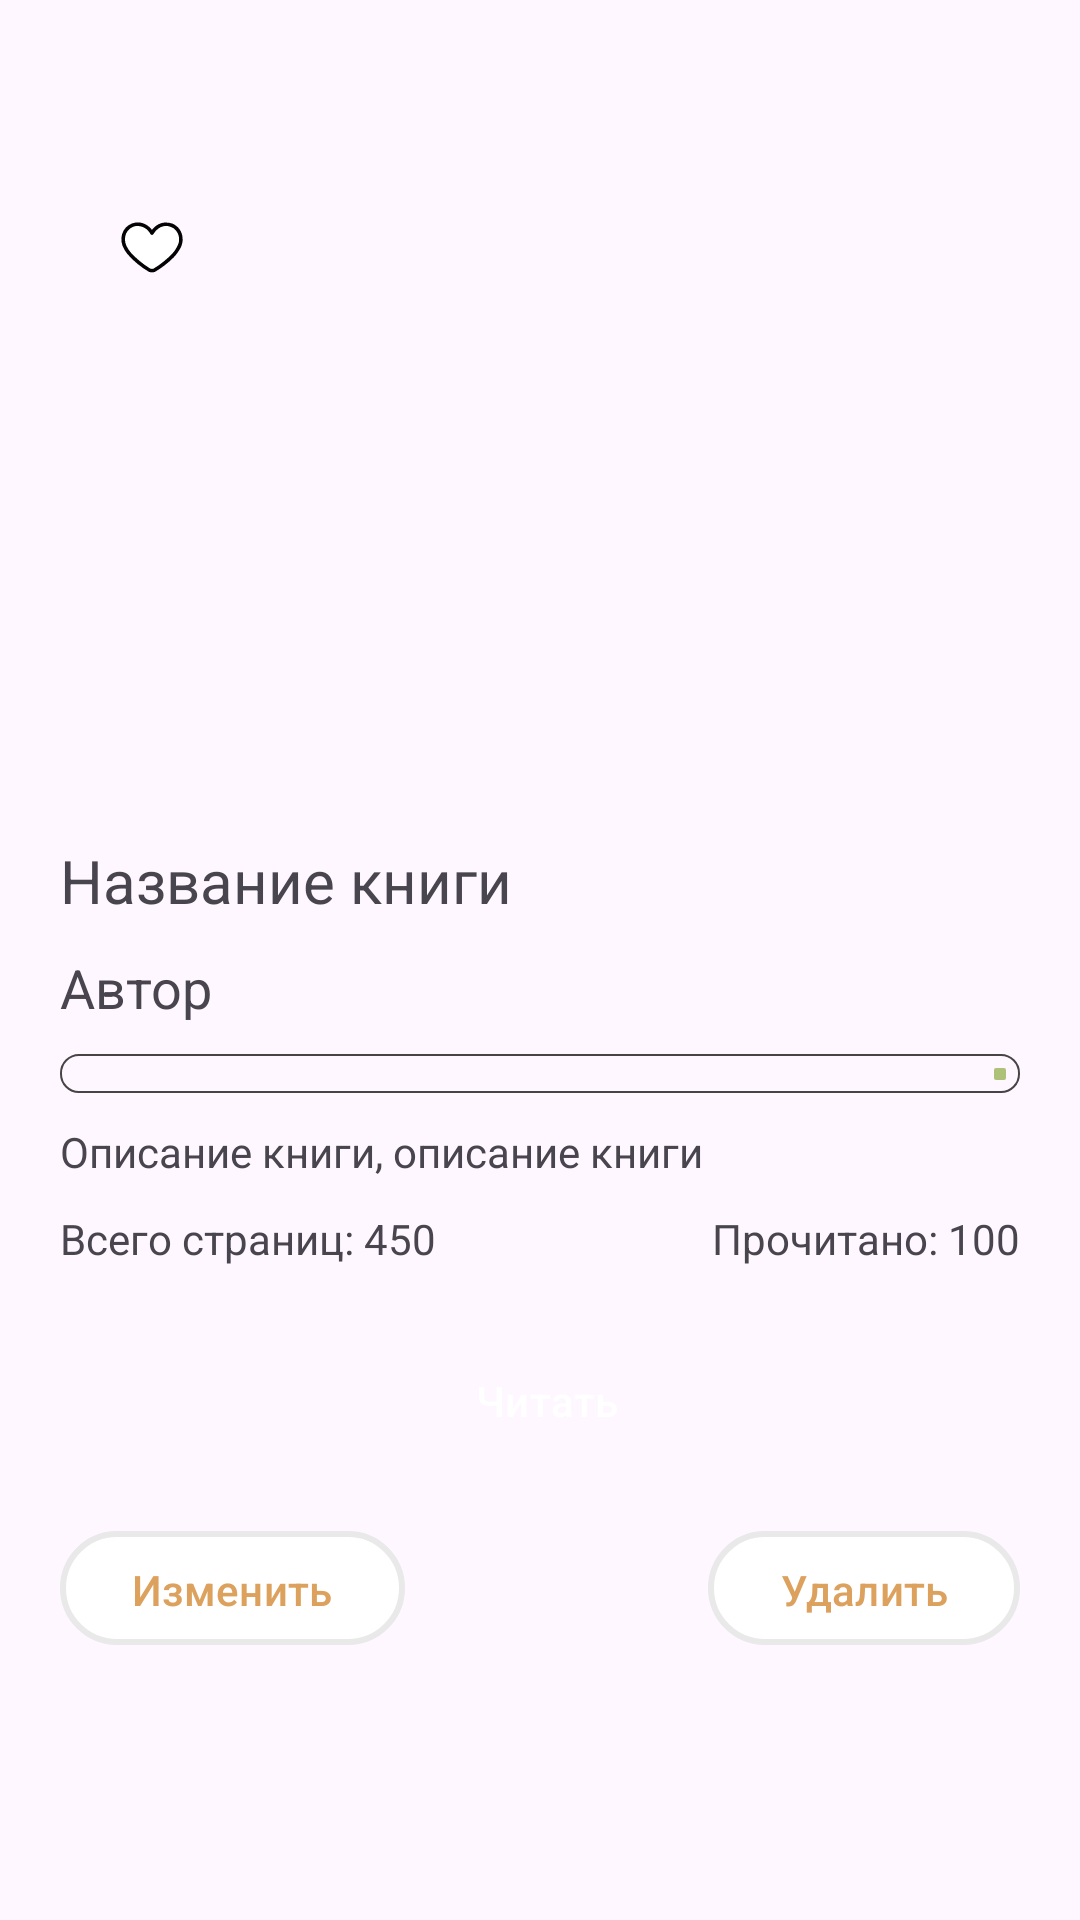

Named icons in this screenshot (1080 × 1920) and their centers, [x,y]:
Сердечко: [152,247]
